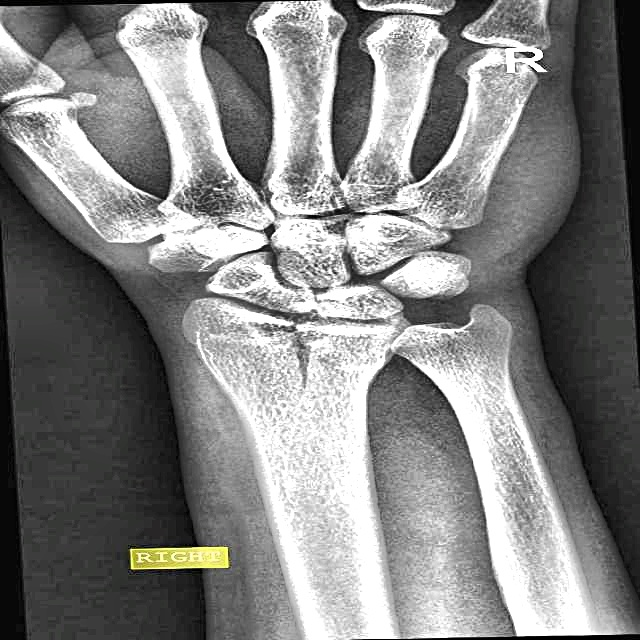Linear: (261, 309, 357, 403)
